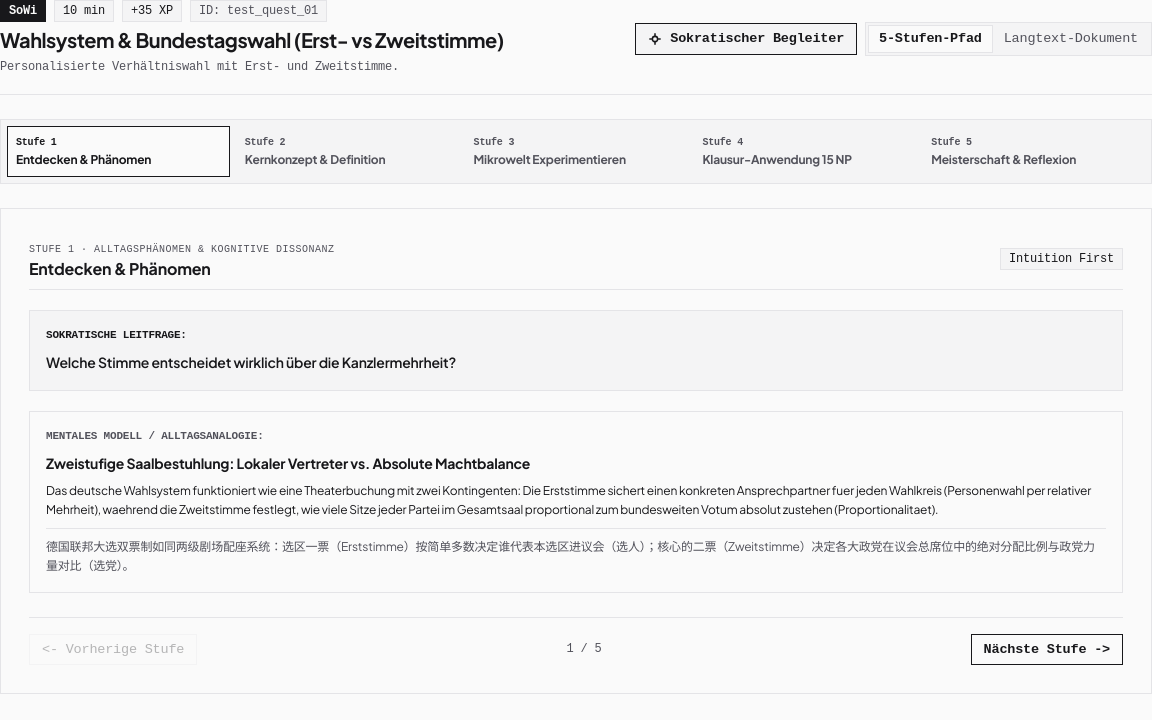
Test case: PlayableStudioTab Component › toggles between 5-stage steps mode and continuous document view
Click the button "Langtext-Dokument" at (1071, 39), box [993, 25, 1149, 53]
(page scrolled)
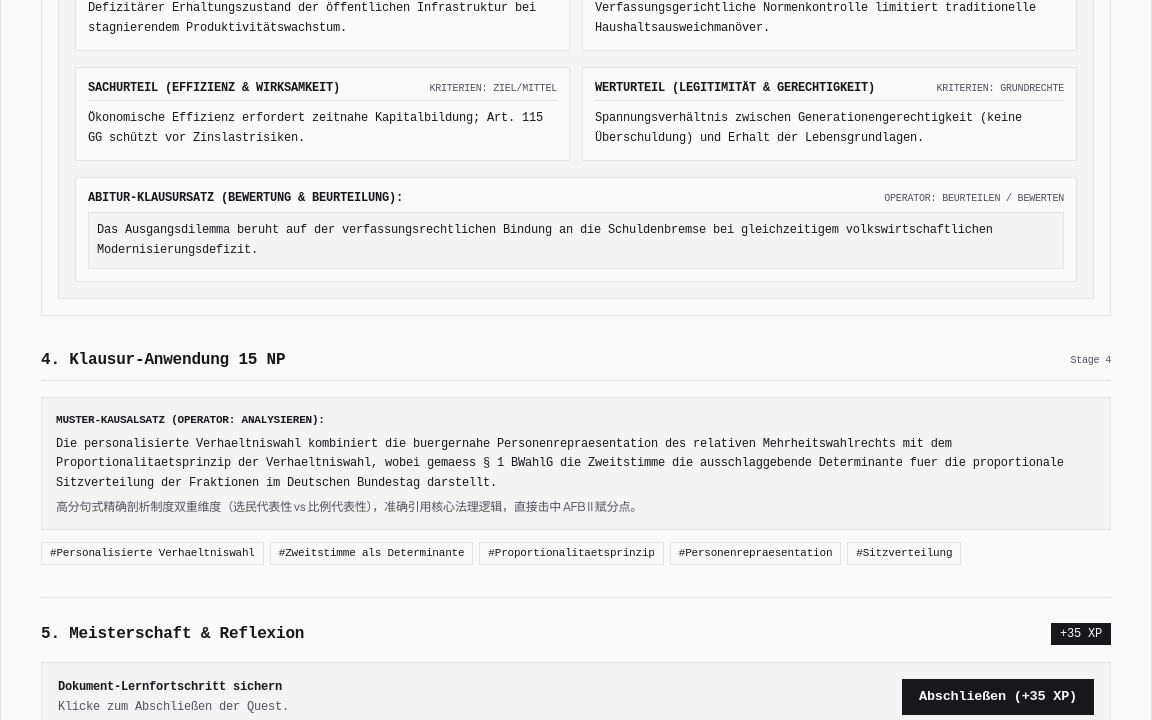
Result: the text "Stage 4" is shown at [1070, 353, 1111, 368]
